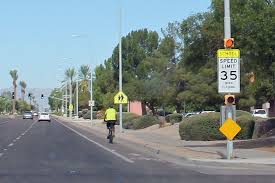pedestrianCrossing: (114, 90, 128, 107)
speedLimit35: (215, 59, 238, 82)
